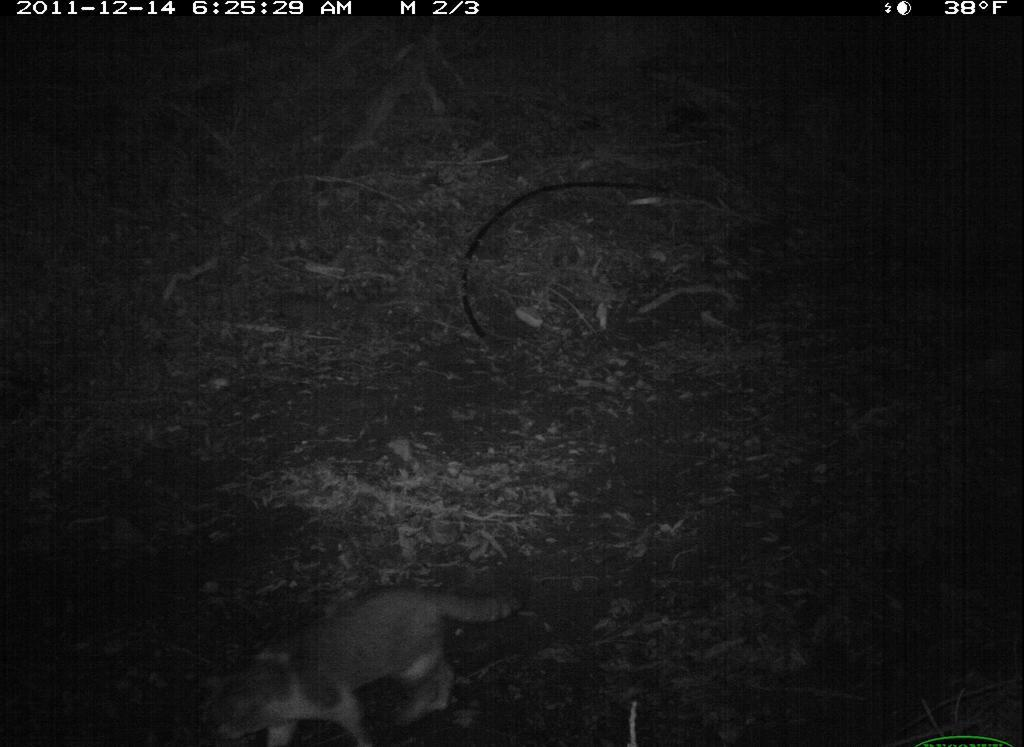cat: (176, 574, 537, 743)
